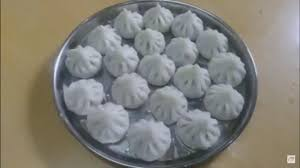modak: (208, 80, 250, 125), (126, 118, 170, 160), (86, 100, 129, 141), (180, 111, 224, 151), (64, 46, 114, 79), (138, 2, 186, 34), (110, 68, 150, 106), (138, 52, 182, 83), (176, 62, 215, 94), (105, 49, 152, 74), (66, 74, 103, 103), (90, 26, 126, 52), (114, 11, 145, 38), (171, 14, 204, 38)
